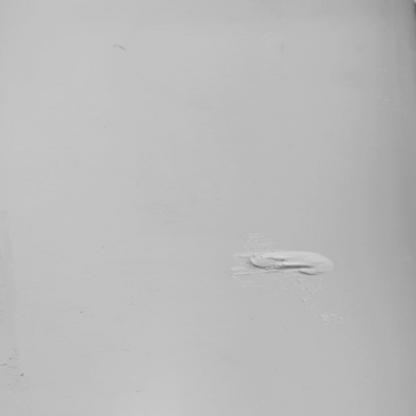sunshang: (248, 251, 329, 275)
